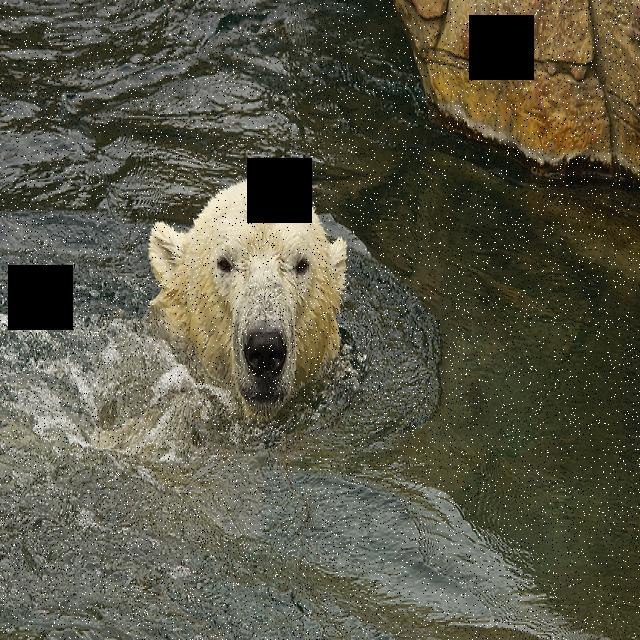Bear: (138, 171, 347, 434)
